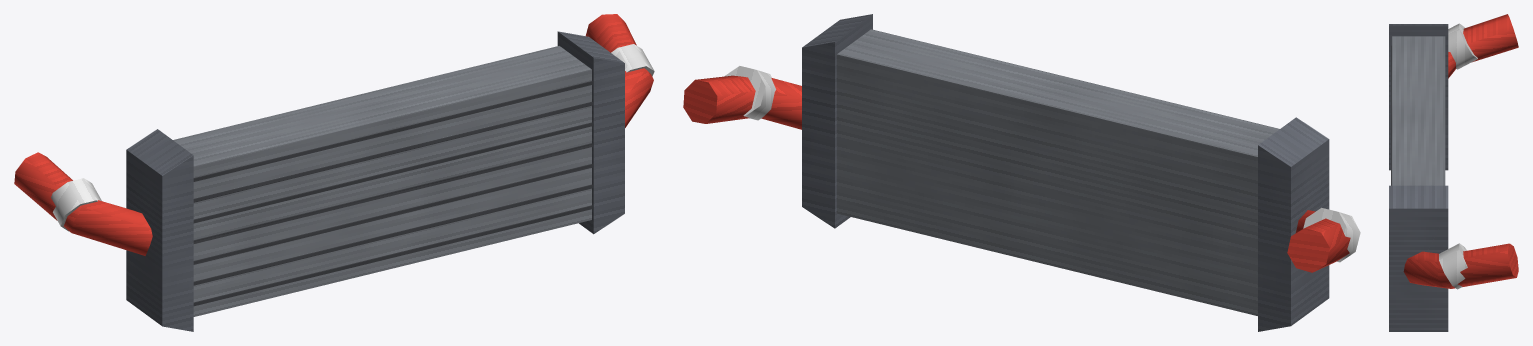
Rendered from intercooler_n4.glb.
3 renders of one model, left to right at view 1: azimuth 30°, elevation 25°; view 2: azimuth 150°, elevation 25°; view 3: azimuth 270°, elevation 25°, orthographic. The views are drawn at different scales.
Parts seen in each view (by area): view 1: intercooler_n4; view 2: intercooler_n4; view 3: intercooler_n4.
Boxes of the visible parts, <box> form: intercooler_n4: <box>14,14,654,331</box>; intercooler_n4: <box>683,14,1360,331</box>; intercooler_n4: <box>1389,14,1518,331</box>.
Bounding box in the file's own units: 0.9763 × 0.27 × 0.2193.
Materials: 3 (3 with a texture image).
